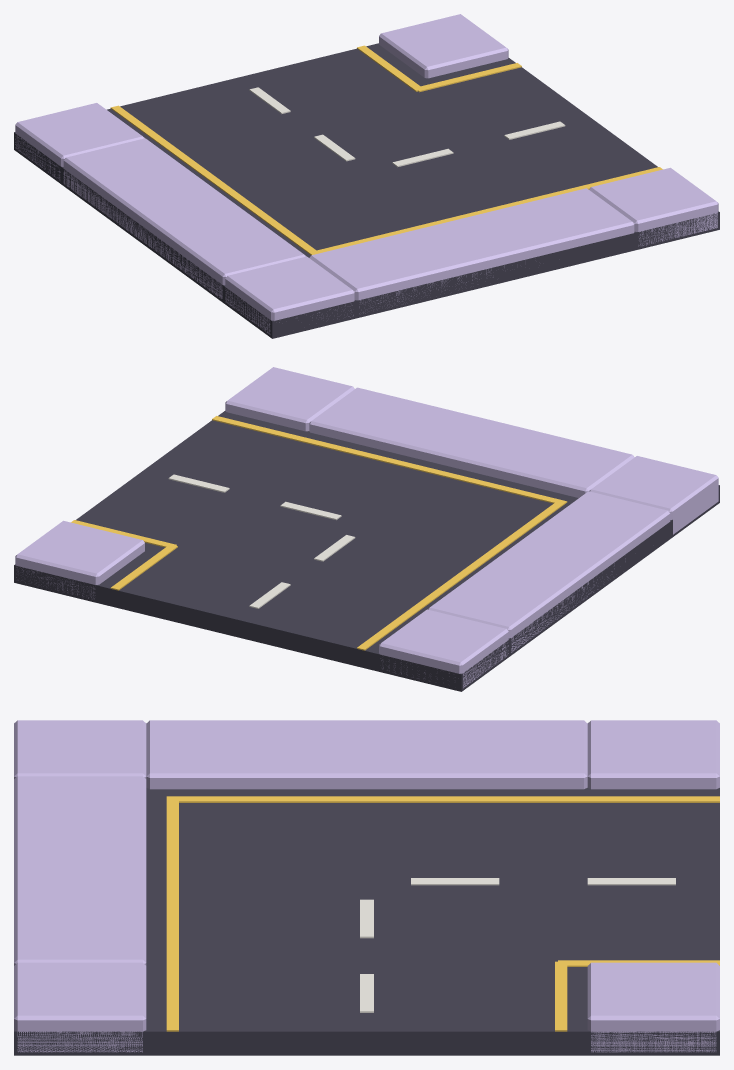
File: road_corner.glb
3 views of the same model, one above another, from view 1: azimuth 30°, elevation 25°; view 2: azimuth 150°, elevation 25°; view 3: azimuth 270°, elevation 25° (orthographic). The views are drawn at different scales.
Visible parts, largest first — view 1: road_corner; view 2: road_corner; view 3: road_corner.
Boxes of the visible parts, x1,y1,x2,y2 form: road_corner: [14, 14, 719, 338]; road_corner: [14, 367, 719, 691]; road_corner: [14, 720, 719, 1055].
Size of the model in its own units: 8 by 0.48 by 8.
